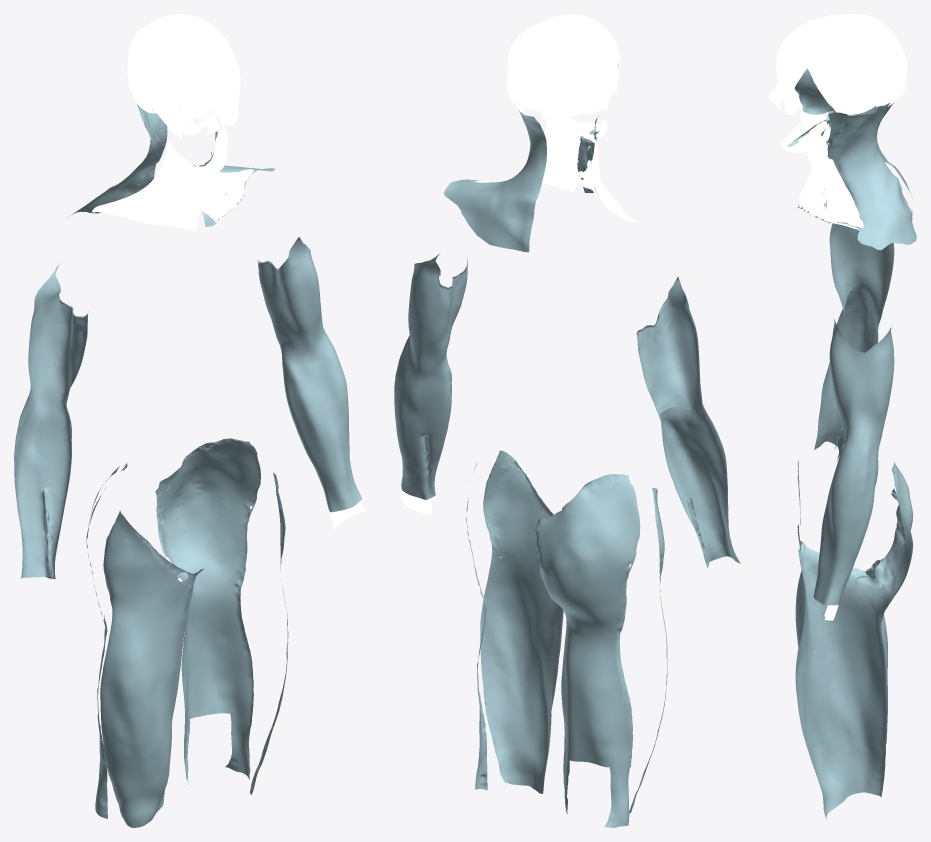
Rendered from anatomyNewV6.glb.
3 views of the same model, side by side, from view 1: azimuth 30°, elevation 25°; view 2: azimuth 150°, elevation 25°; view 3: azimuth 270°, elevation 25° (orthographic).
Parts seen in each view (by area): view 1: thights_hamstrings, forearm, face_head, upper_arm, neck; view 2: thights_hamstrings, forearm, neck, upper_arm, face_head; view 3: thights_hamstrings, neck, face_head, forearm, upper_arm.
Part boxes in pixels (x1,y1,x2,y2): thights_hamstrings: (86,438,288,827); forearm: (14,328,361,579); face_head: (127,14,240,141); upper_arm: (28,237,323,403); neck: (67,103,274,230); thights_hamstrings: (466,450,667,827); forearm: (394,335,740,567); neck: (444,111,637,252); upper_arm: (408,254,702,415); face_head: (507,14,619,118); thights_hamstrings: (795,443,913,818); neck: (780,102,916,249); face_head: (769,14,906,127); forearm: (813,287,882,605); upper_arm: (829,223,894,437).
Size of the model in its own units: 0.5816 by 1.28 by 0.2196.
